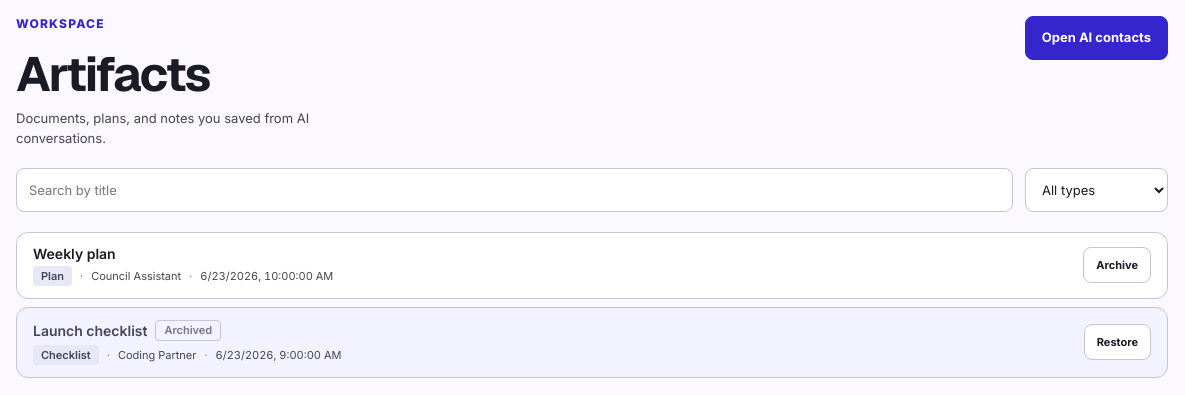
ArtifactsPage › searches and filters the artifact list
Expected: the link "Weekly plan" is shown, [33,245,116,262]
Select "Checklist" in the dropdown named "Filter by type" at {"x": 1096, "y": 190}, box [1025,168,1168,212]
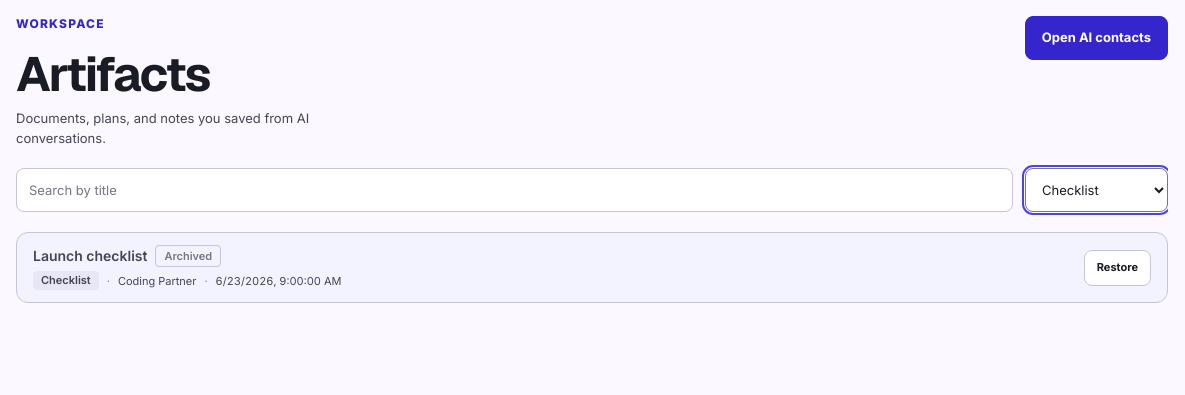
Expected: the link "Launch checklist" is shown, [33,247,148,264]
Now the link "Weekly plan" is gone
Type "missing" into the field named "Search artifacts" at {"x": 514, "y": 190}, box [16,168,1013,212]
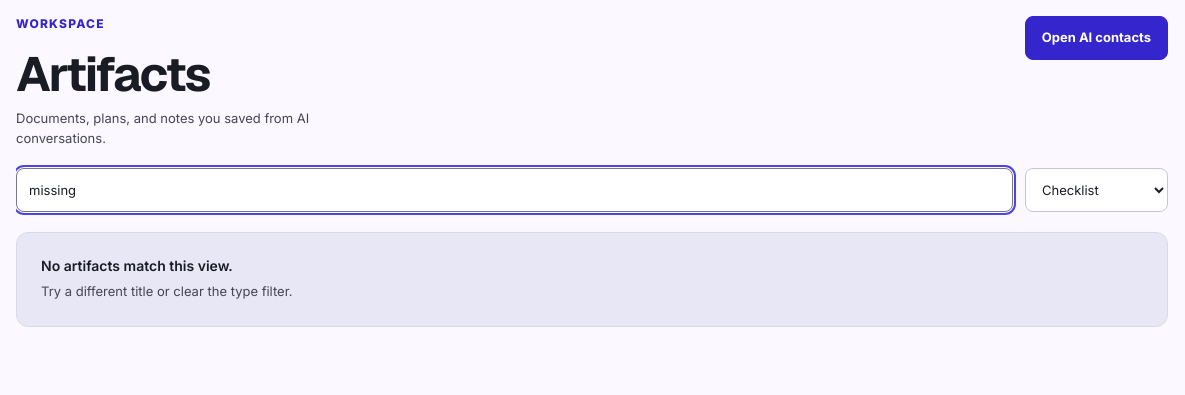
Now the text "No artifacts match this view." is shown, box [41,257,233,274]
